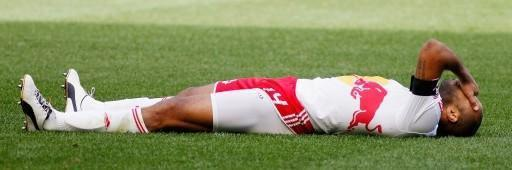Fall-Detected: (5, 4, 499, 145)
